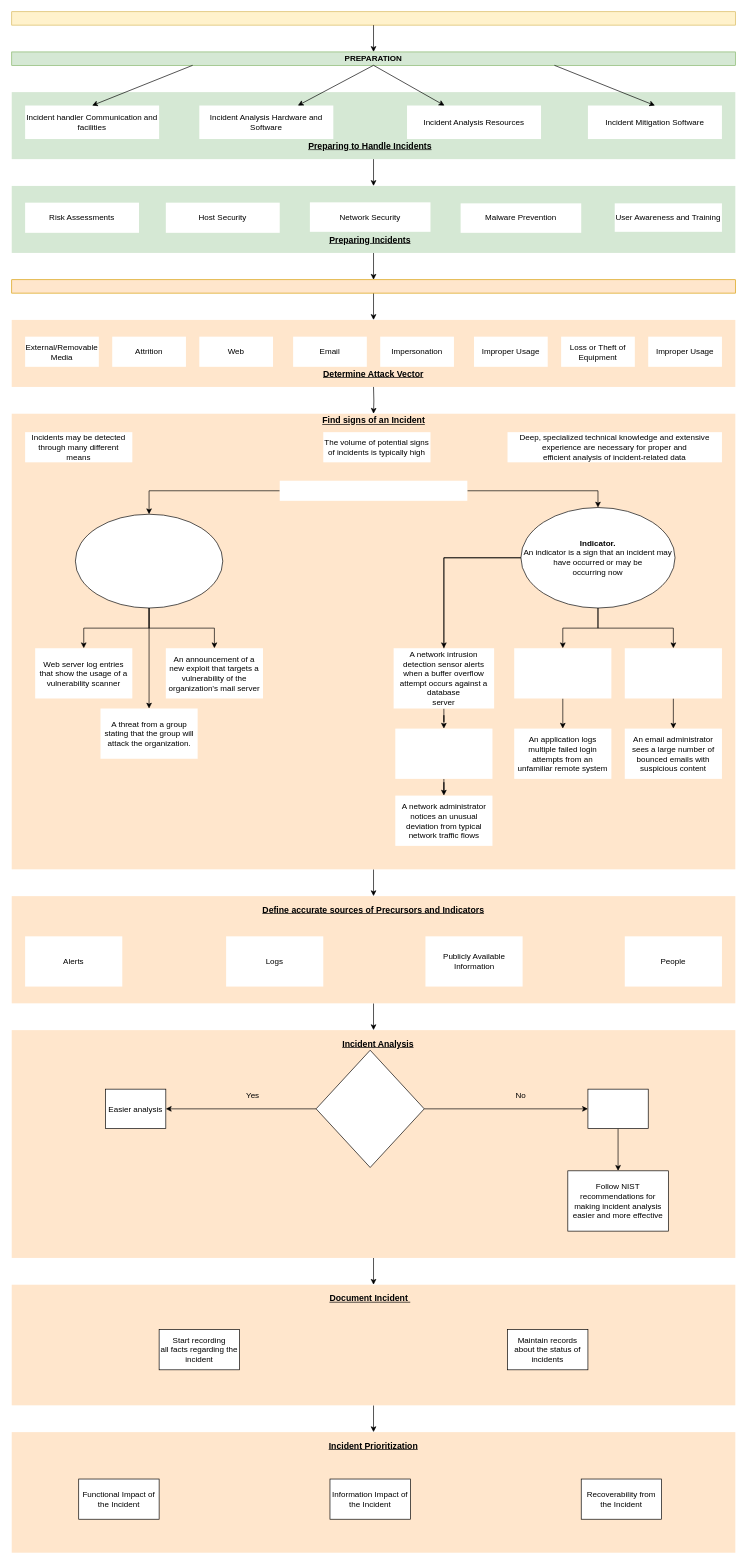
This 747x1564 diagram has some shape labels left out. The centre of each missing label's shape, as x and y in pixels:
2 categories of signs of an incident: point (373, 490)
A host records an auditing configuration change in its log: point (443, 753)
A system administrator sees a filename with unusual characters: point (673, 673)
Accurate sources of Precursors and Indicators: point (369, 1108)
Antivirus software alerts when it detects that a host is infected with malware: point (562, 673)
DETECTION AND ANALYSIS: point (373, 286)
Harder analysis: point (617, 1108)
Precursor. A precursor is a sign that an incident may occur in the future: point (149, 561)
RISK MANAGEMENT: point (373, 18)
